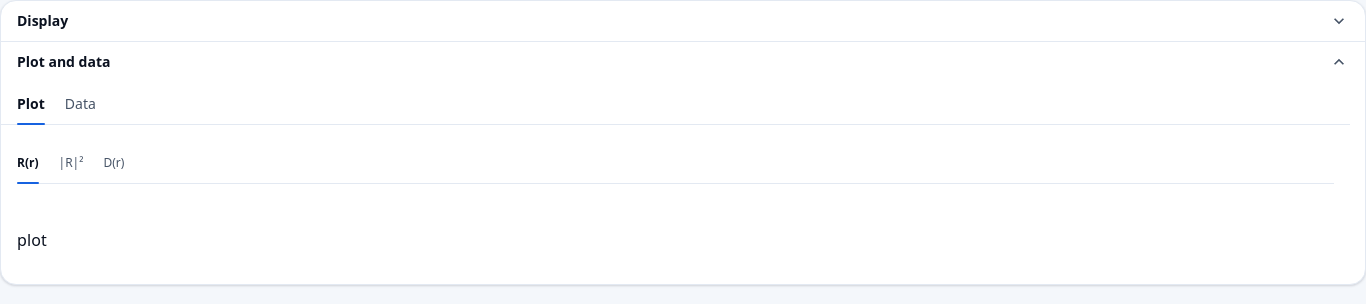
Test case: BasicInspector (spec §9.2: "Plot tabs as §9.1") › heads the docked inspector with the Display section, above Plot and Data
Expected: the headings read "Display", "Plot and data", in this order, [1,1,1365,41]; [1,42,1365,82]
Click the button "Display" at (43, 20), box [17,7,1349,35]
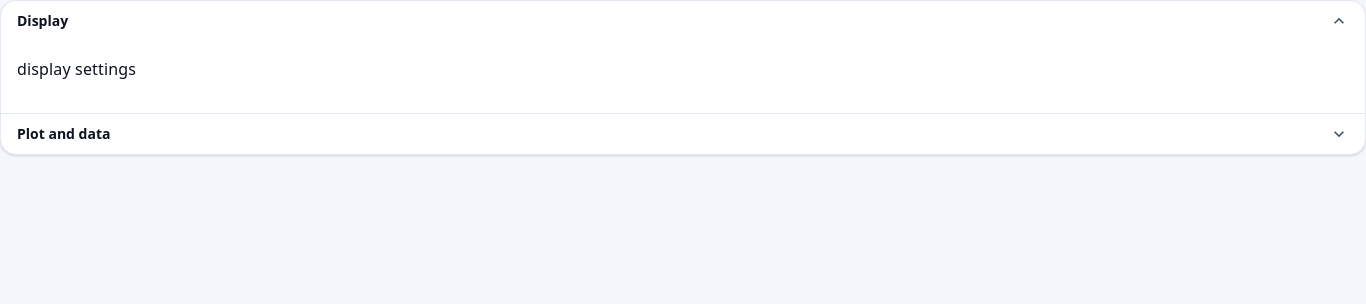
Expected: the element "display" reads "display settings", [17,58,136,80]
